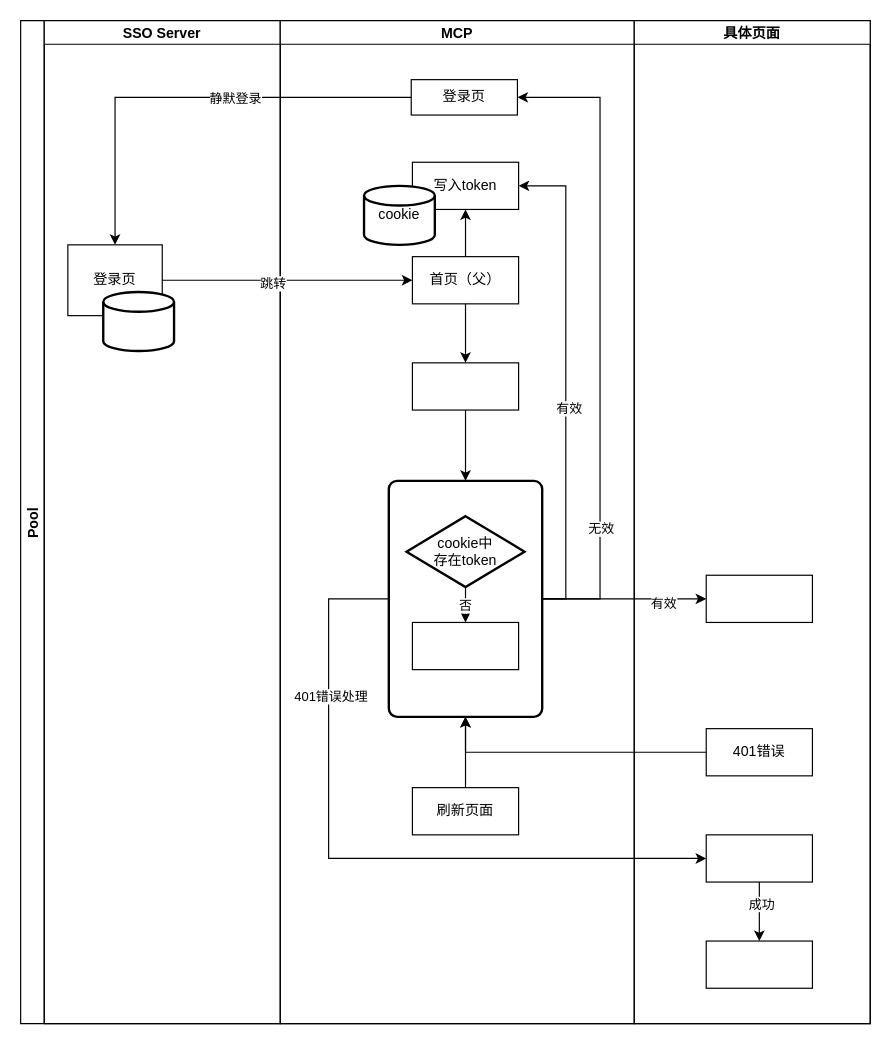
The diagram is 891 pixels wide and 1044 high, and some of its shapes have lost their labels. Each missing label, with the centre of its shape:
"store" goes at (x=138, y=321).
"打开页面" goes at (x=465, y=386).
"渲染页面" goes at (x=758, y=598).
"监听token处理结果消息" goes at (x=758, y=858).
"重新获取" goes at (x=465, y=645).
"重试请求" goes at (x=758, y=964).
